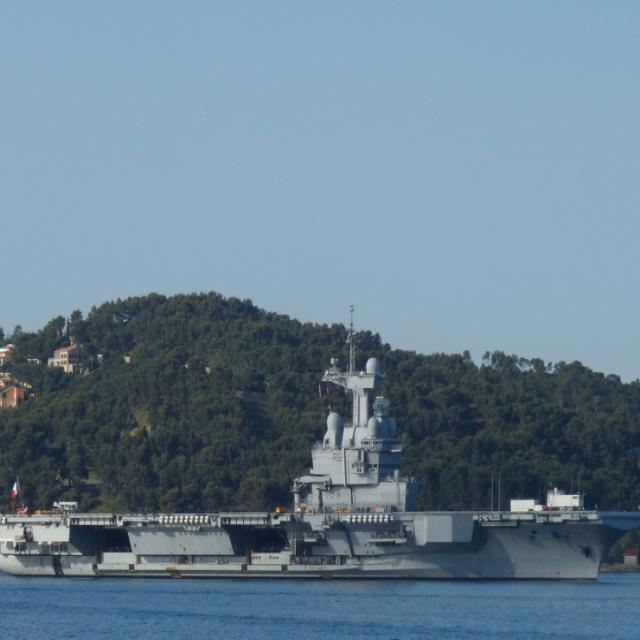Portanaves: (1, 307, 640, 582)
